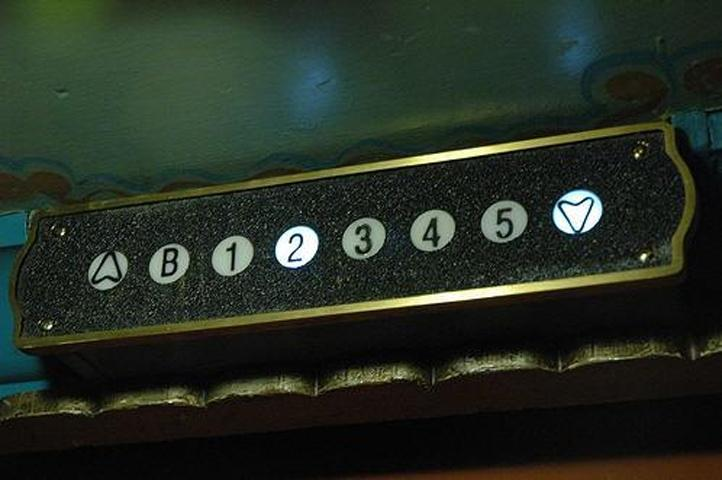1: (211, 234, 253, 276)
2: (274, 224, 318, 266)
3: (341, 216, 386, 259)
4: (409, 209, 455, 250)
5: (478, 200, 528, 244)
B: (148, 241, 189, 283)
down: (550, 188, 603, 235)
up: (85, 249, 128, 289)
